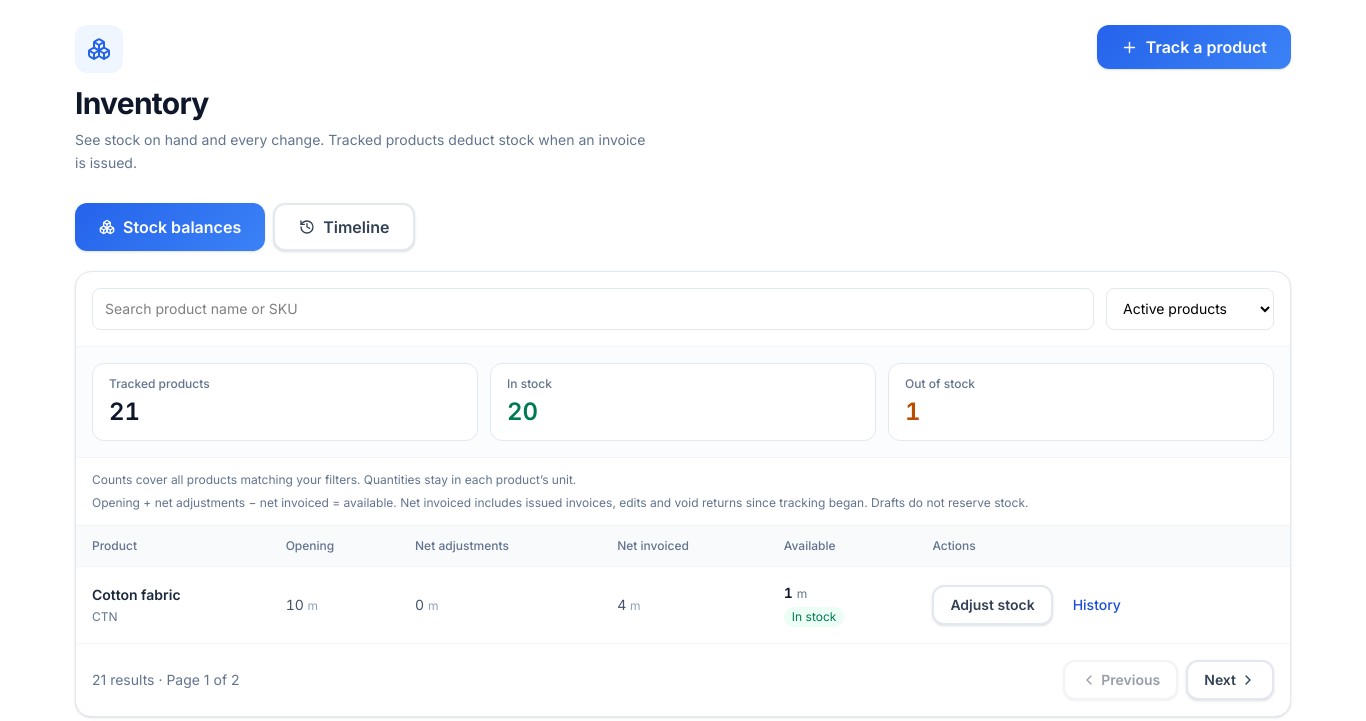
Test: Inventory workspace › paginates and recovers from a stale out-of-range page
Expected: the link "Cotton fabric" is shown, x1=92 y1=586 x2=180 y2=602
Click the button "Next" at (1230, 680), box x1=1186 y1=660 x2=1274 y2=700
(page scrolled)
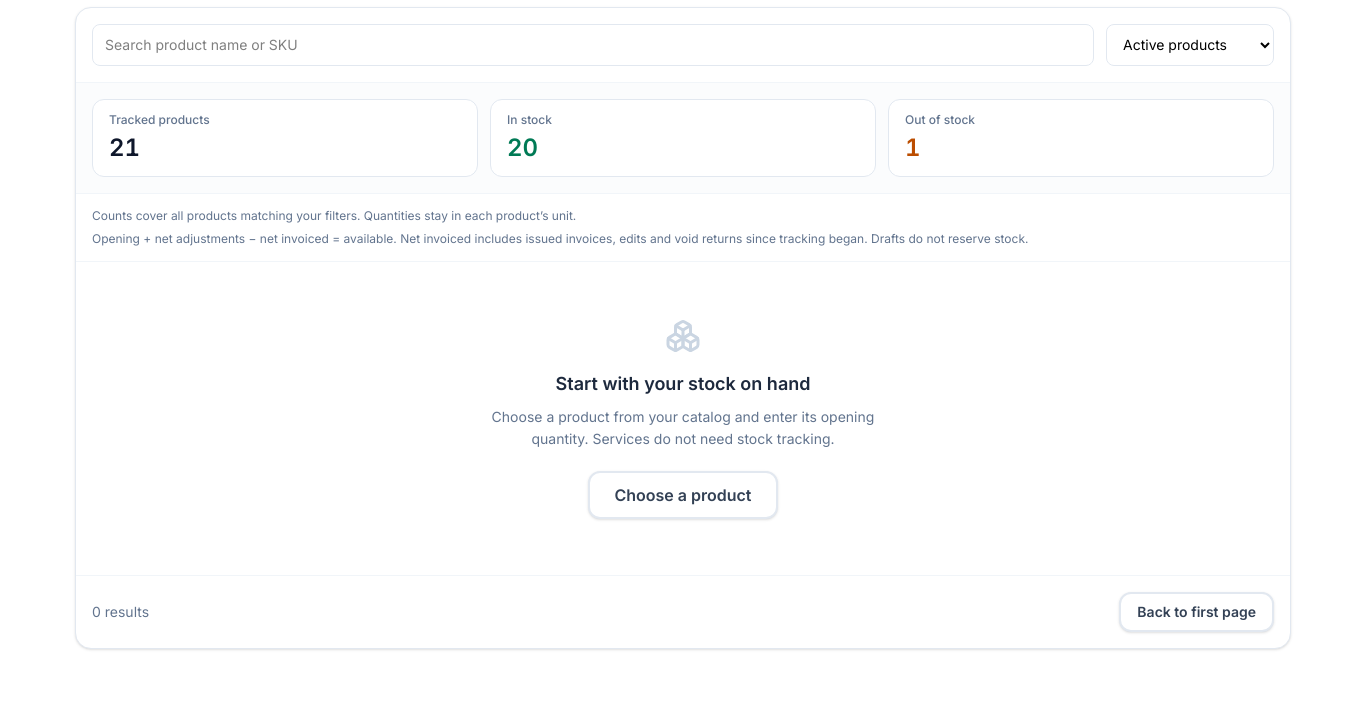
Click the button "Back to first page" at (1197, 612), box x1=1119 y1=592 x2=1274 y2=632
(page scrolled)
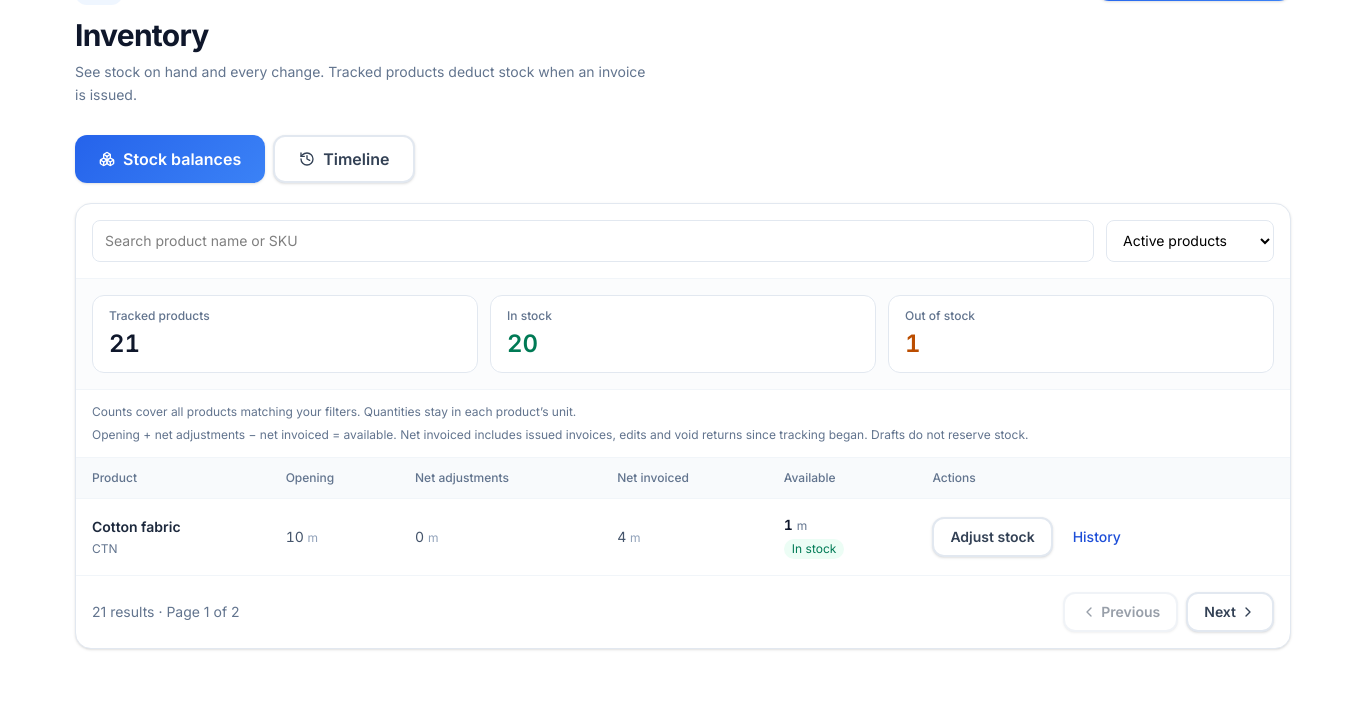
Result: the link "Cotton fabric" is shown at x1=92 y1=518 x2=180 y2=534
